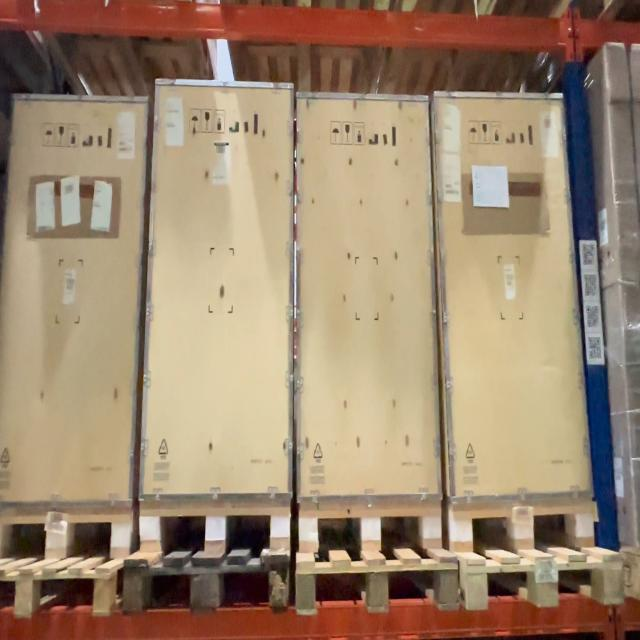box: (158, 87, 286, 492), (304, 100, 426, 488), (450, 95, 564, 496)
